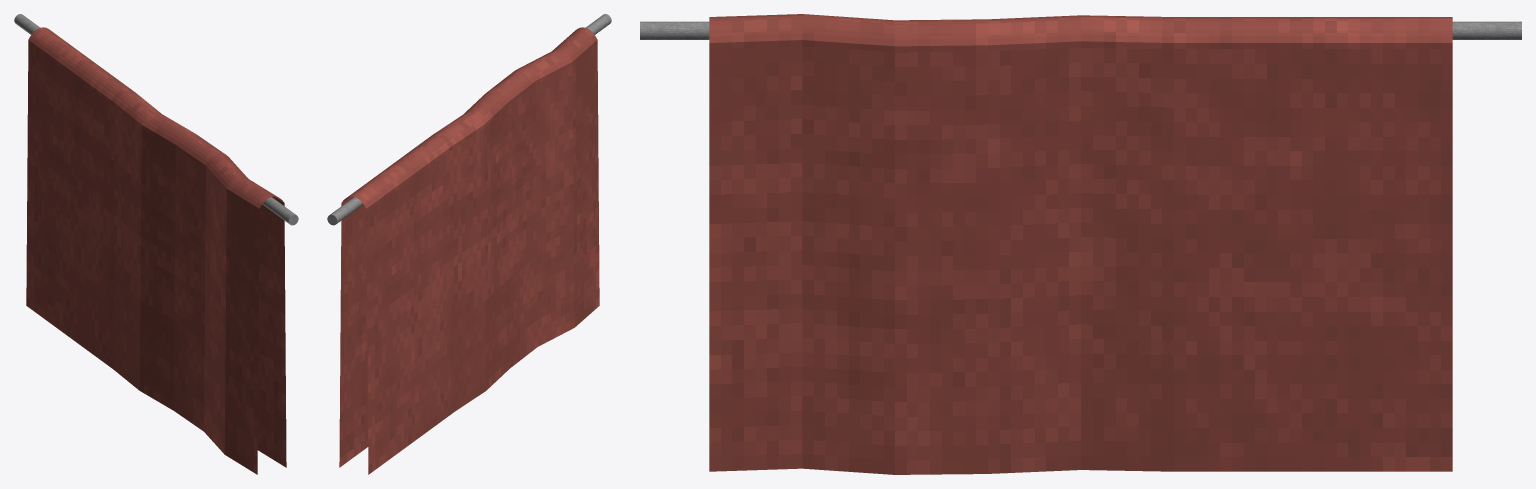
The model's file is recznik.fbx.
The picture shows the model from 3 angles, left to right: view 1: azimuth 30°, elevation 25°; view 2: azimuth 150°, elevation 25°; view 3: azimuth 270°, elevation 25°; orthographic projection. The views are drawn at different scales.
Parts seen in each view (by area): view 1: Plane.061, Cylinder.065; view 2: Plane.061, Cylinder.065; view 3: Plane.061, Cylinder.065.
Boxes of the visible parts, x1,y1,x2,y2 form: Plane.061: (26, 27, 286, 474); Cylinder.065: (14, 14, 298, 225); Plane.061: (339, 27, 599, 474); Cylinder.065: (327, 14, 611, 225); Plane.061: (709, 14, 1452, 474); Cylinder.065: (640, 21, 1521, 39).
Size of the model in its own units: 18.15 by 129 by 233.
